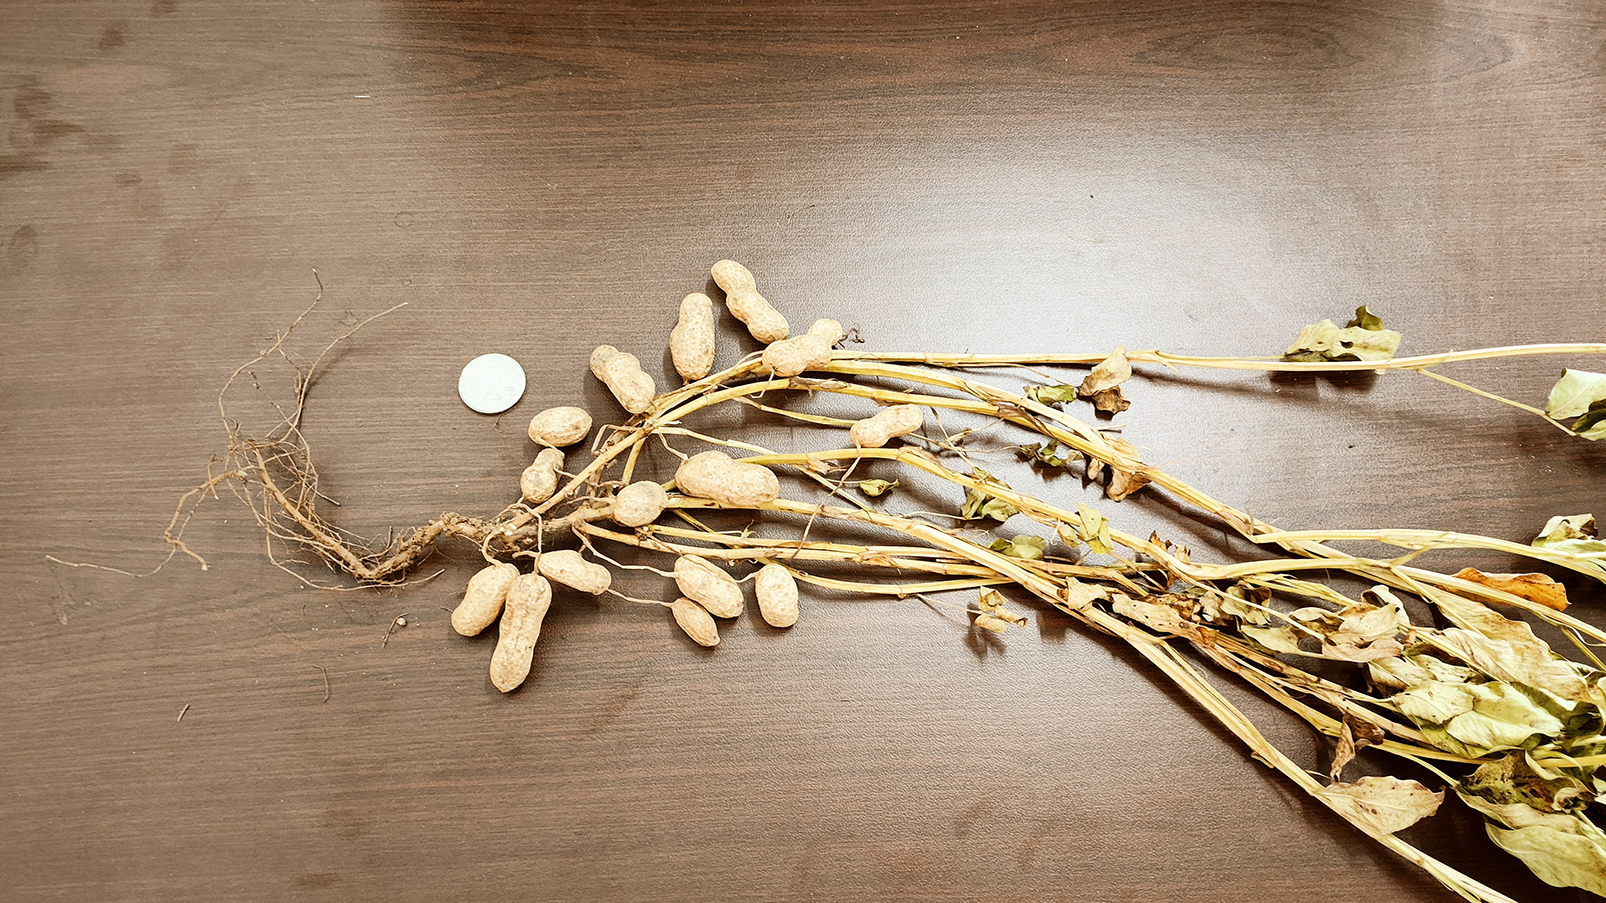h: (488, 576, 552, 694), (711, 258, 789, 340), (676, 449, 777, 507), (449, 562, 518, 636), (763, 318, 842, 381), (588, 344, 655, 411), (674, 553, 743, 615), (667, 292, 717, 377), (537, 546, 611, 596), (852, 404, 922, 452), (757, 565, 799, 630), (667, 598, 720, 648), (529, 405, 592, 445), (612, 479, 666, 525), (520, 448, 565, 502)
